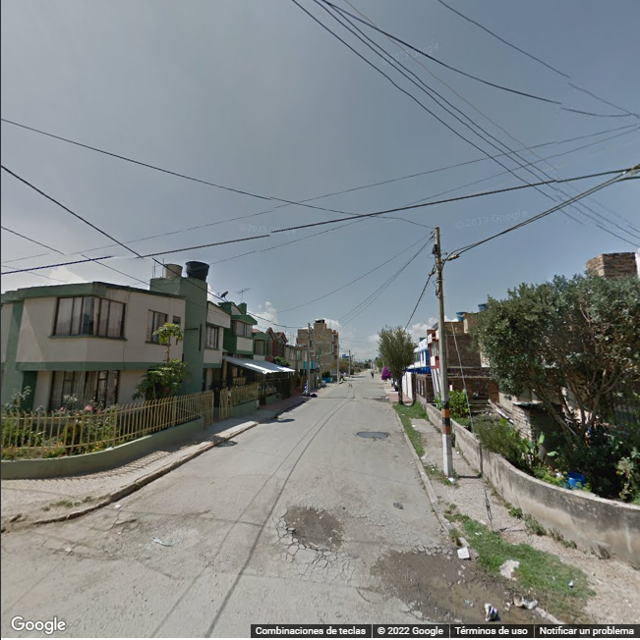D00: (298, 550, 320, 578)
D10: (125, 549, 182, 583)
D40: (421, 581, 537, 627), (290, 506, 342, 547)
